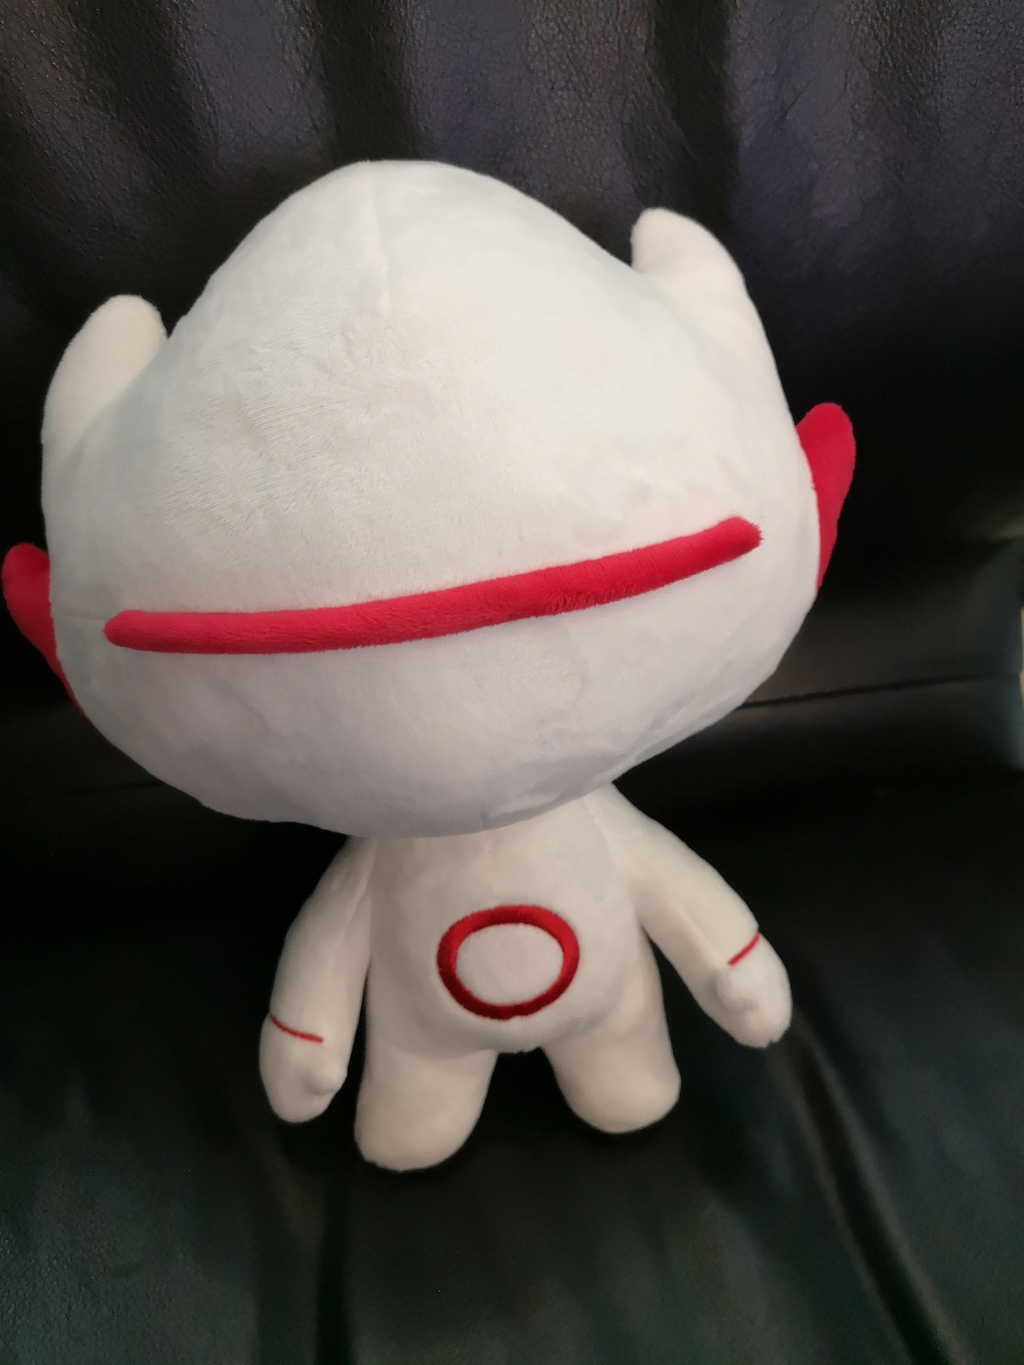yunbao: (0, 106, 855, 1177)
